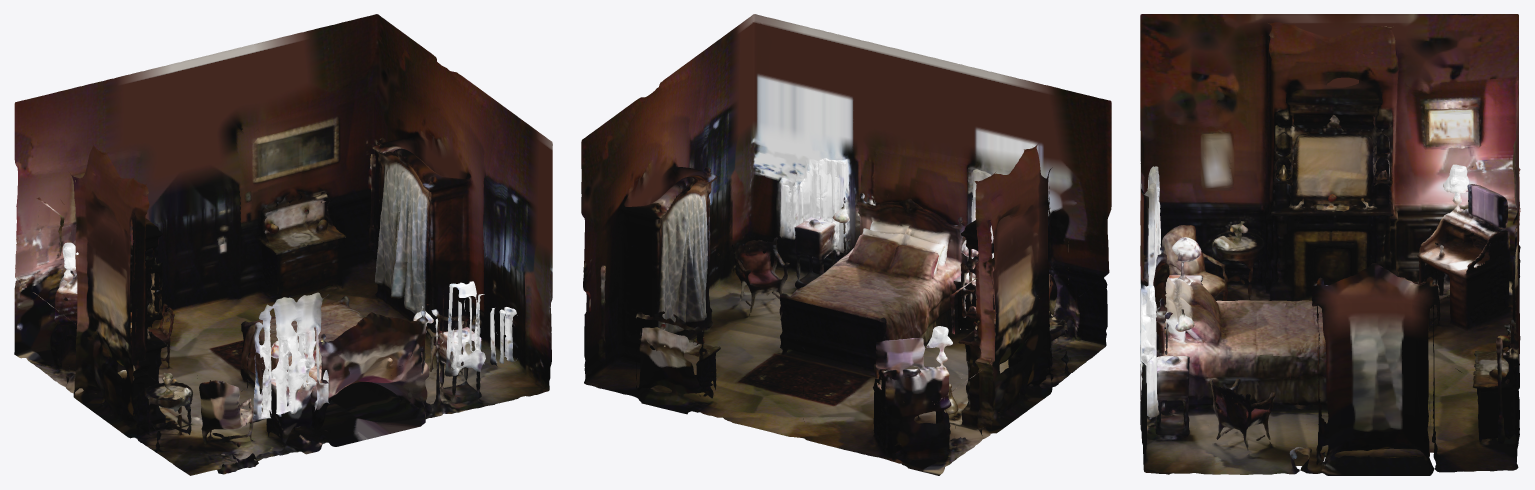
Rendered from bedroom-full.glb.
3 views of the same model, side by side, from view 1: azimuth 30°, elevation 25°; view 2: azimuth 150°, elevation 25°; view 3: azimuth 270°, elevation 25° (orthographic). The views are drawn at different scales.
Parts seen in each view (by area): view 1: Redwood Bedroom; view 2: Redwood Bedroom; view 3: Redwood Bedroom.
Part boxes in pixels (left/top/right/bottom): Redwood Bedroom: left=14, top=14, right=552, bottom=475; Redwood Bedroom: left=581, top=14, right=1111, bottom=475; Redwood Bedroom: left=1140, top=14, right=1520, bottom=475.
Size of the model in its own units: 5.67 by 3.81 by 4.75.
1 material, 1 textured.
